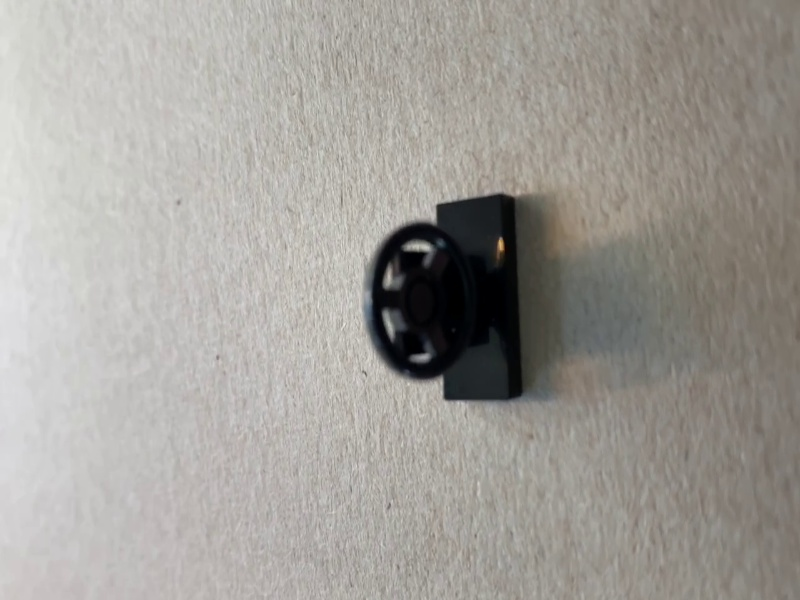steering wheel: (361, 191, 524, 403)
